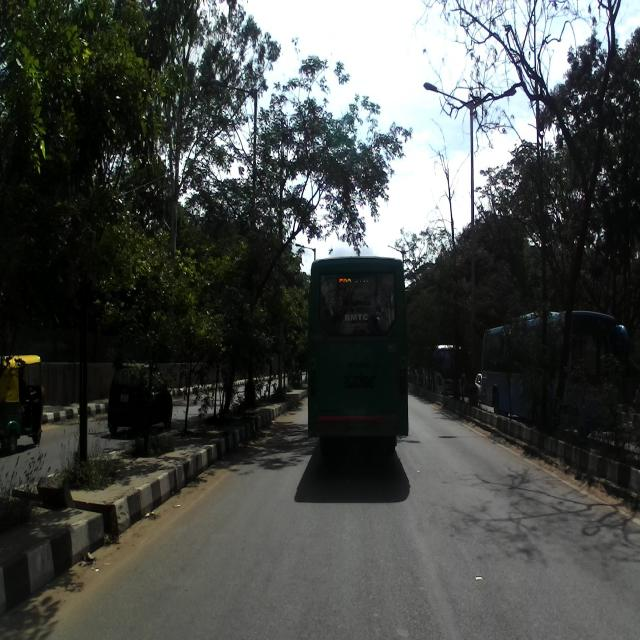Car_Maruti-Suzuki: (106, 361, 172, 438)
bus: (306, 254, 410, 456), (481, 308, 627, 440)
